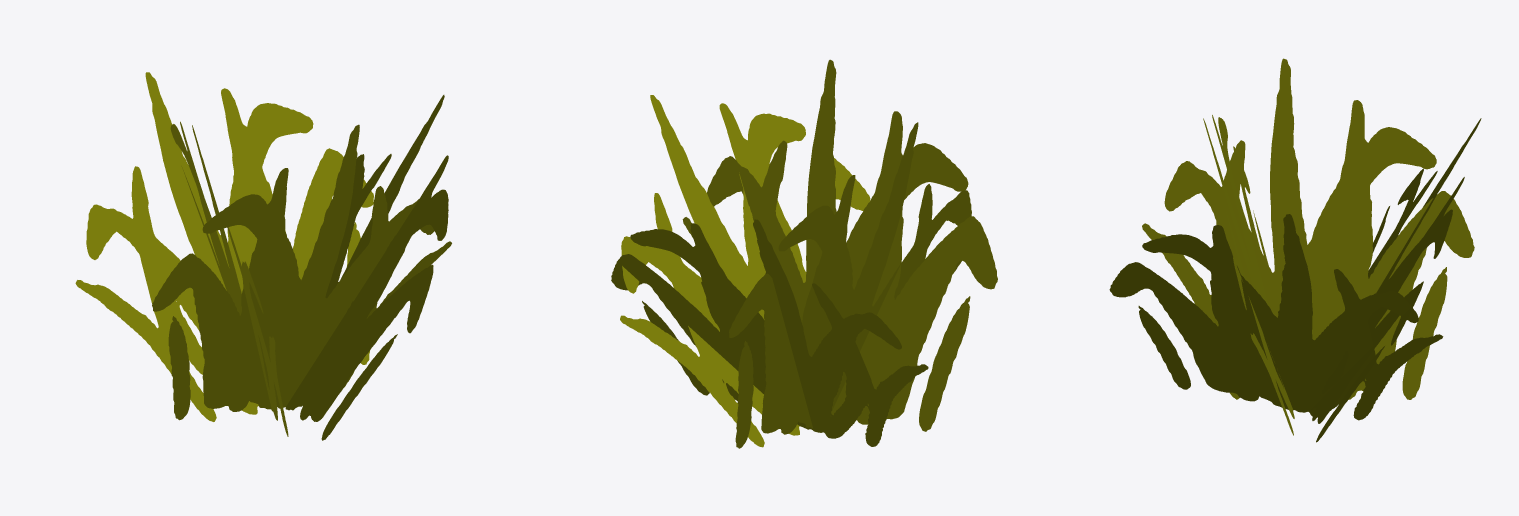
File: grass_B.fbx
The picture shows the model from 3 angles, left to right: view 1: azimuth 30°, elevation 25°; view 2: azimuth 150°, elevation 25°; view 3: azimuth 270°, elevation 25°; orthographic projection. The views are drawn at different scales.
Parts seen in each view (by area): view 1: grass_B; view 2: grass_B; view 3: grass_B.
Boxes of the visible parts, bbox=[...] form: grass_B: bbox=[75, 72, 451, 440]; grass_B: bbox=[611, 59, 997, 448]; grass_B: bbox=[1109, 58, 1481, 442].
Size of the model in its own units: 31.94 by 27.73 by 33.37.
